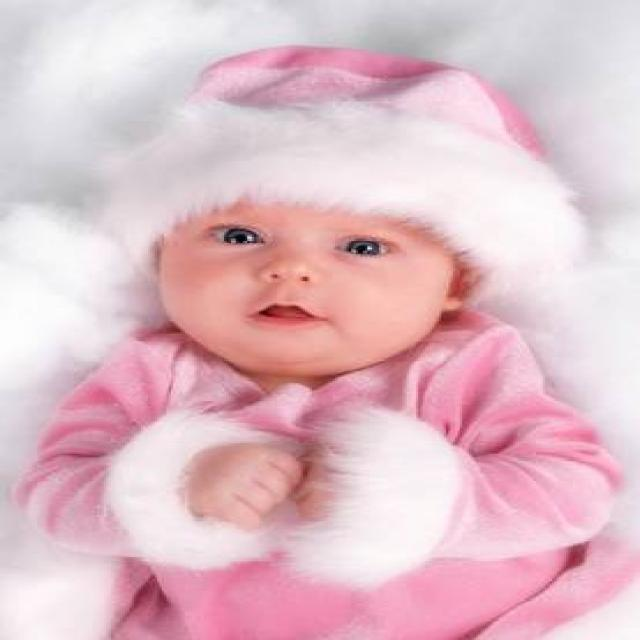non-dog: (12, 36, 638, 640)
